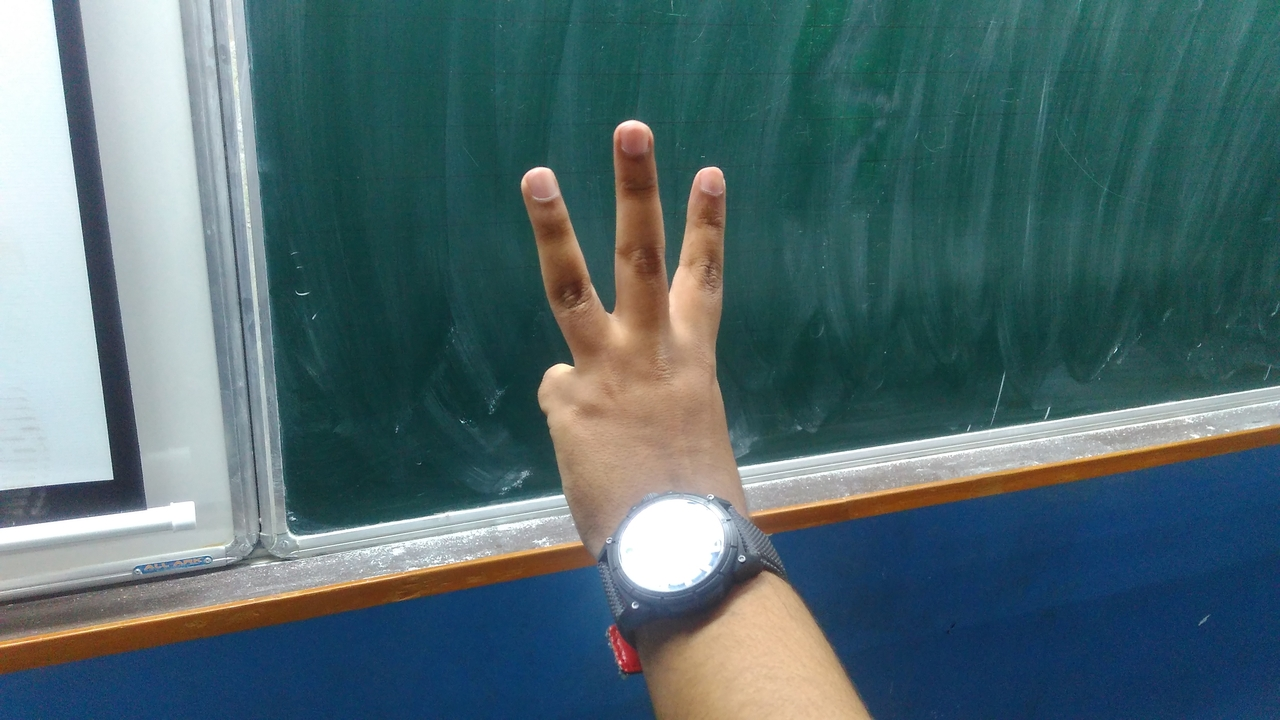fingertip: (604, 118, 660, 168), (512, 160, 566, 208), (682, 156, 734, 204)
